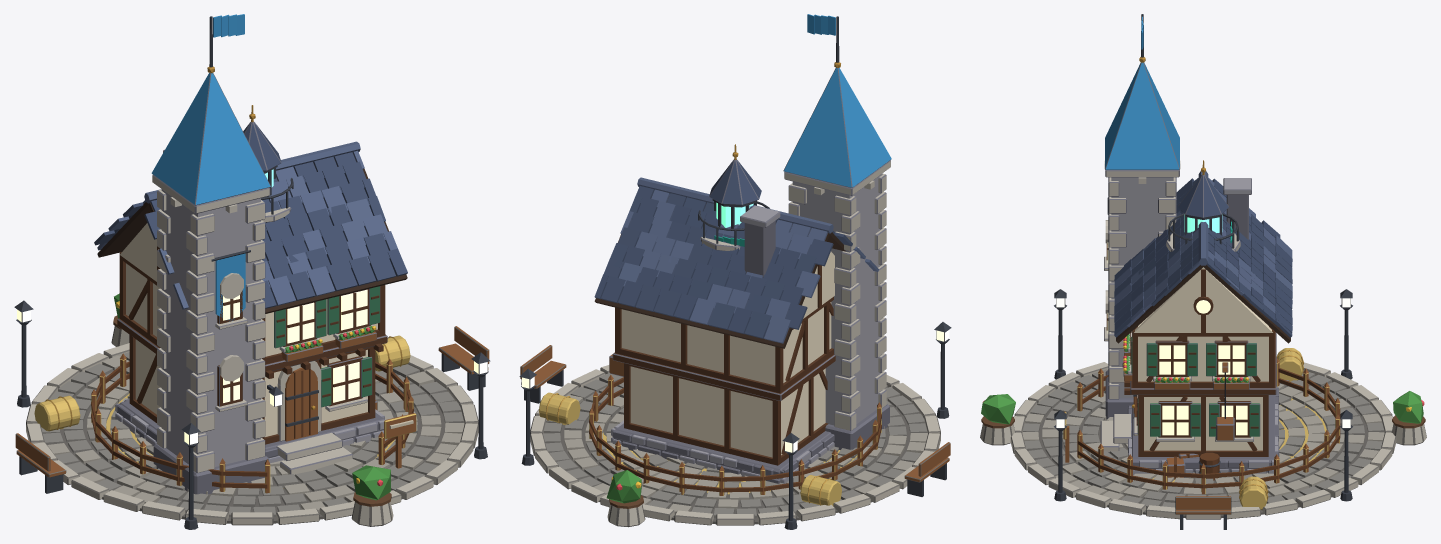
Rendered from kit.glb.
The picture shows the model from 3 angles, left to right: view 1: azimuth 30°, elevation 25°; view 2: azimuth 150°, elevation 25°; view 3: azimuth 270°, elevation 25°; orthographic projection. The views are drawn at different scales.
Parts seen in each view (by area): view 1: hq, plaza, nursery, tower_ci; view 2: hq, plaza, nursery, tower_ci; view 3: hq, plaza, nursery, tower_ci, tower_release.
Part boxes in pixels (x1,y1,x2,y2): hq: (94,14,407,494); plaza: (14,293,490,529); nursery: (34,335,416,493); tower_ci: (243,105,293,222); hq: (594,14,891,483); plaza: (519,322,951,529); nursery: (539,375,881,505); tower_ci: (698,144,769,250); hq: (1100,14,1292,475); plaza: (980,289,1426,529); nursery: (1063,348,1340,509); tower_ci: (1166,160,1240,251); tower_release: (1166,218,1234,480).
Size of the model in its own units: 7.01 by 7.05 by 7.18.
